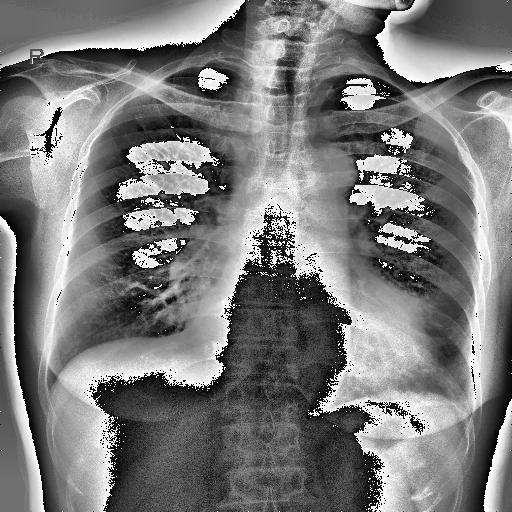0- Aortic enlargement: (292, 148, 357, 202), (308, 147, 359, 190)
3- Cardiomegaly: (196, 297, 438, 390), (186, 301, 442, 385), (190, 302, 444, 368)
